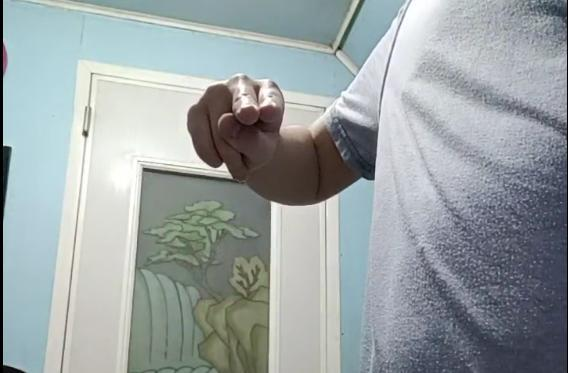n: (187, 71, 285, 183)
